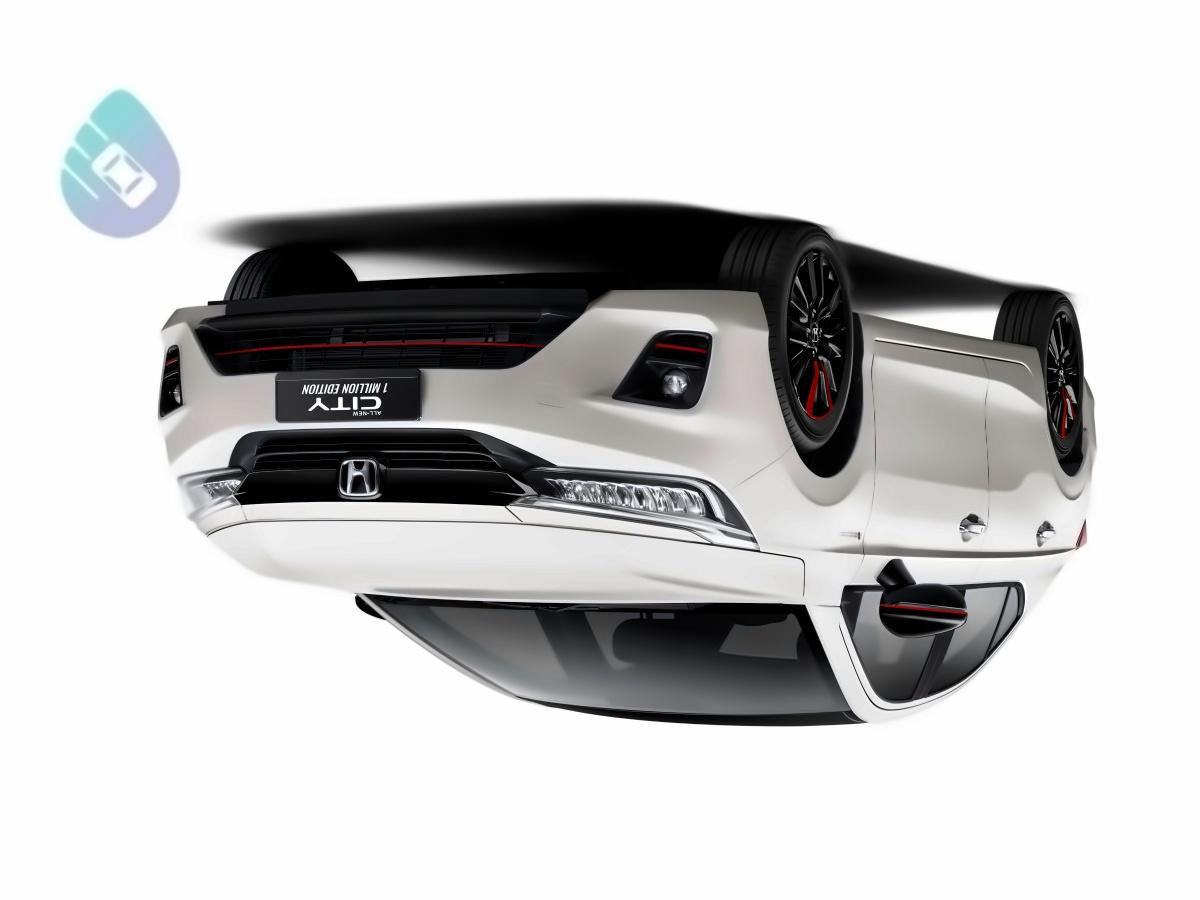Car hood: (203, 519, 816, 610)
Driver-s door - -F-R-: (826, 289, 1004, 718)
Fender - -F-R-: (739, 247, 898, 624)
Front bumper: (133, 279, 793, 500)
Headlight - -L-: (173, 469, 252, 535)
Headlight - -R-: (502, 460, 759, 549)
Passenger-s door - -R-R-: (917, 286, 1076, 743)
Side bumper - -R-: (839, 294, 1049, 419)
Side mirror - -R-: (870, 556, 971, 643)
